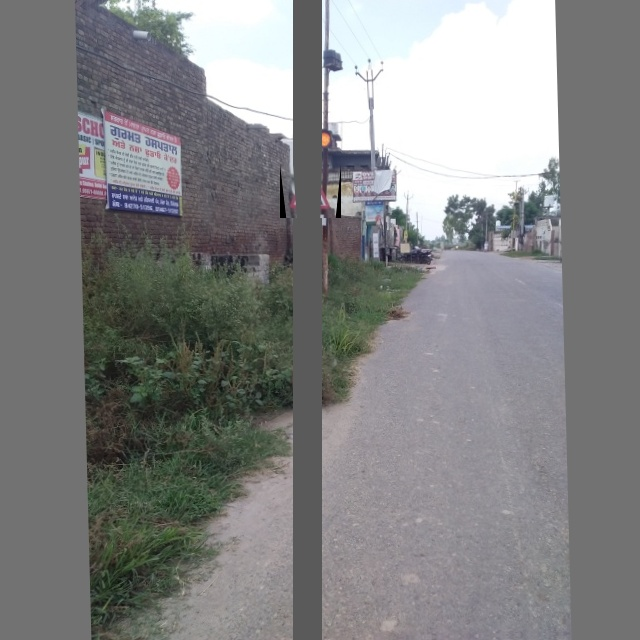Pedestrian_Crossing: (280, 164, 341, 218)
